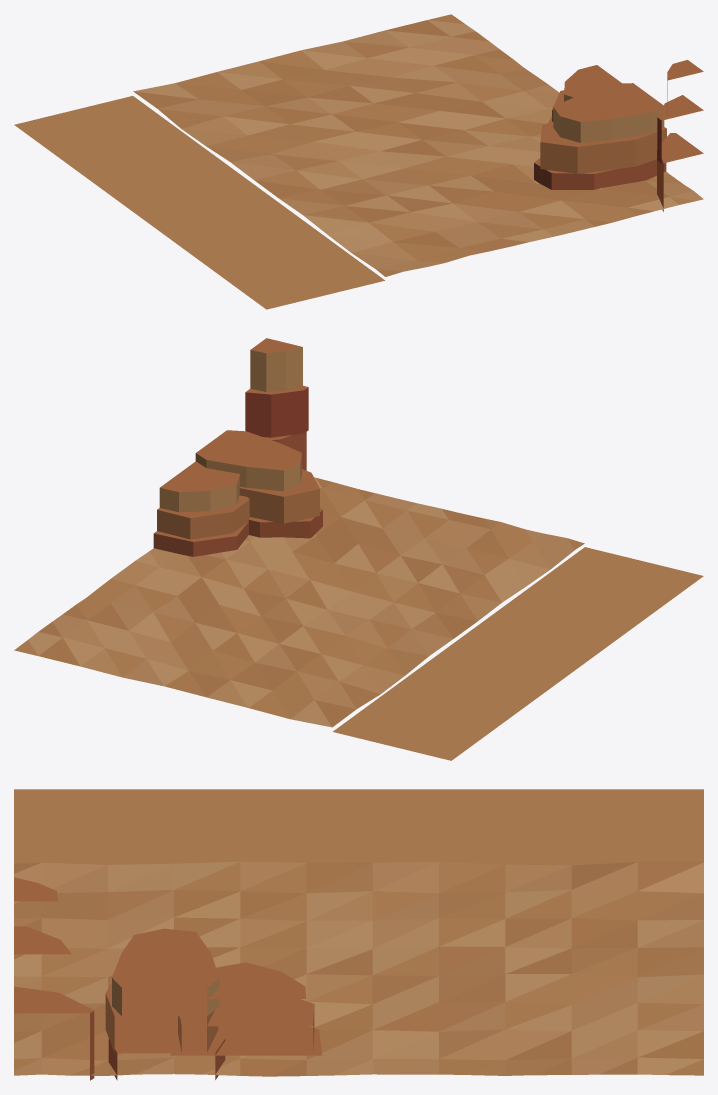
3 renders of one model, top to bottom at view 1: azimuth 30°, elevation 25°; view 2: azimuth 150°, elevation 25°; view 3: azimuth 270°, elevation 25°, orthographic. The views are drawn at different scales.
Visible parts, largest first — view 1: baked; view 2: baked; view 3: baked.
Boxes of the visible parts, left/top/right/bottom form: baked: left=14, top=14, right=703, bottom=309; baked: left=14, top=338, right=703, bottom=760; baked: left=14, top=789, right=703, bottom=1080.
Bounding box in the file's own units: 125 × 35.84 × 125.
